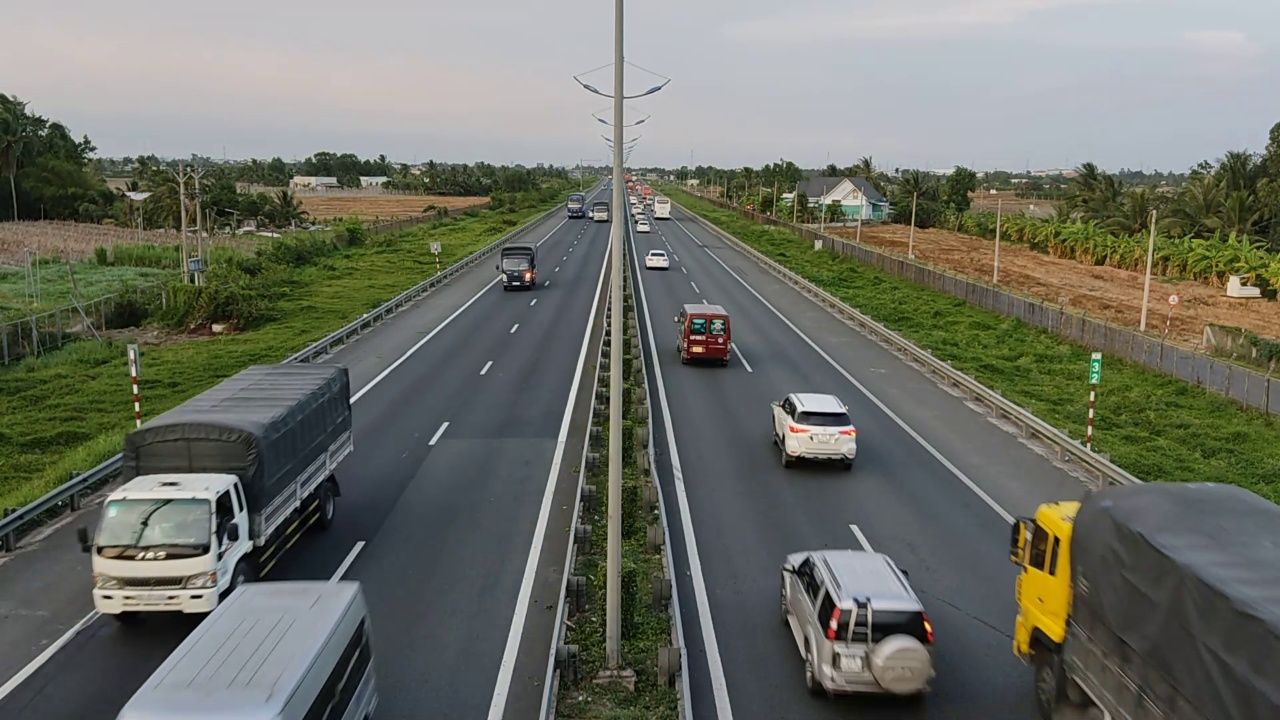bus: (116, 577, 381, 717)
car: (779, 545, 937, 700), (769, 391, 857, 468), (671, 298, 734, 367), (645, 248, 669, 271)
truck: (87, 361, 357, 620), (1007, 480, 1278, 715)
